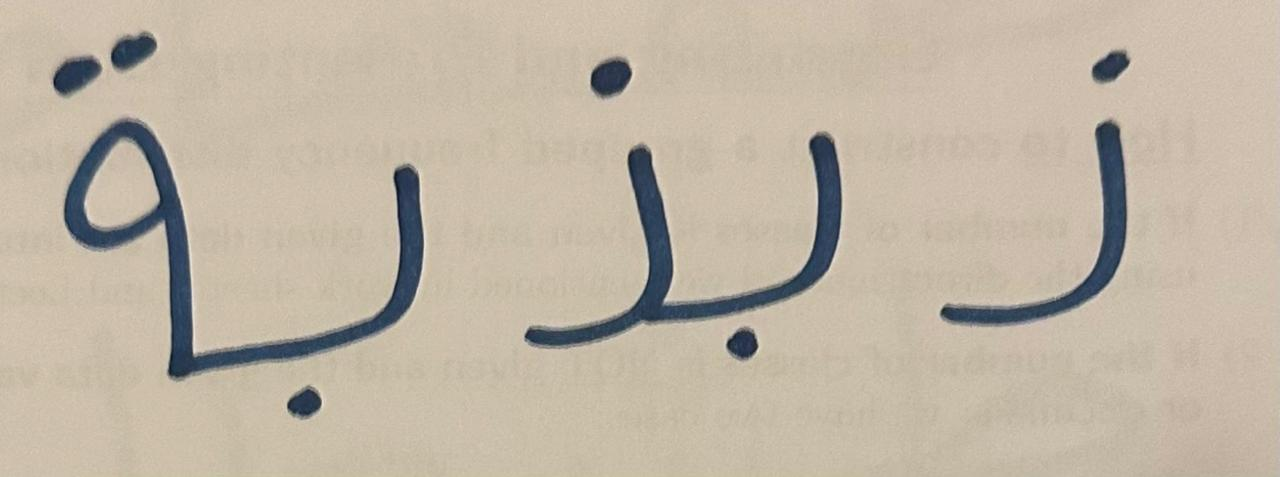ain: (886, 6, 1211, 384), (472, 19, 683, 414)
beh: (206, 33, 466, 436), (687, 39, 876, 418)
thal: (14, 6, 202, 410)
